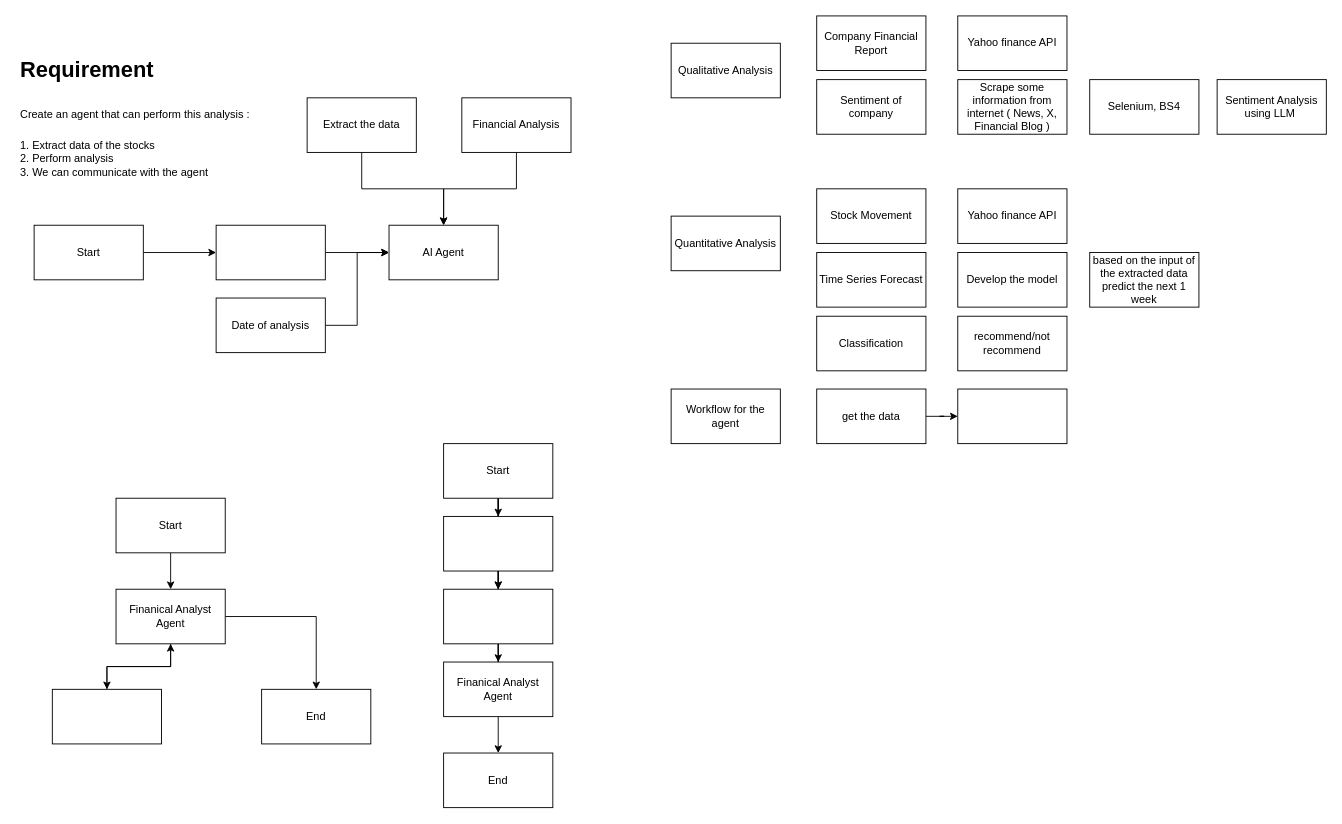
This 1342x824 diagram has some shape labels left out. Each missing label, with the centre of its shape:
"Extract Data" goes at pixel 498 543.
"Extract Metrics" goes at pixel 498 616.
"get the financial report" goes at pixel 1012 416.
"Tools" goes at pixel 106 716.
"User Selecting the Stock" goes at pixel 270 252.
